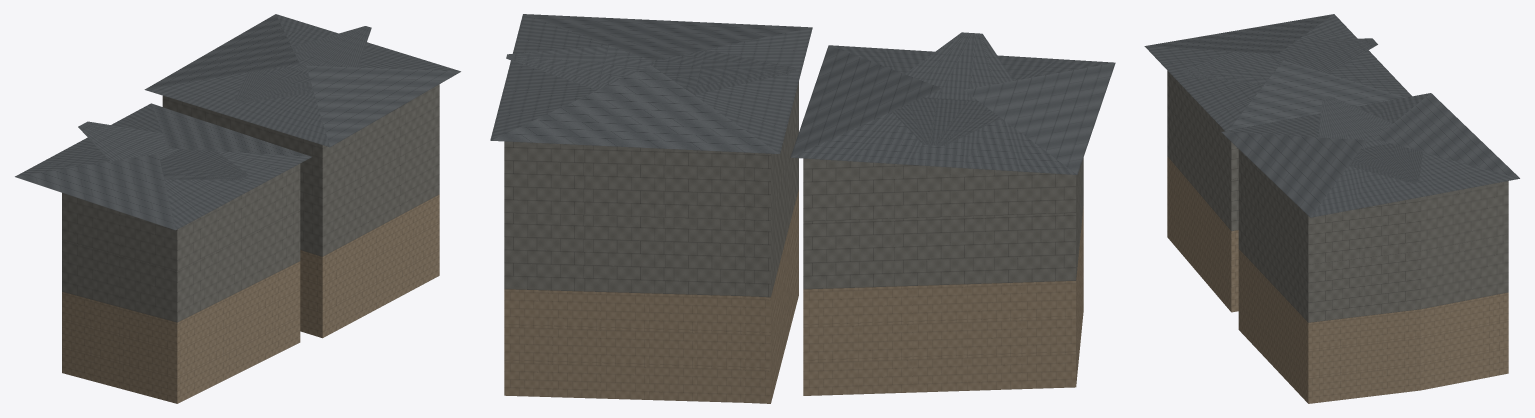
The model's file is bld_c41_-9_503.gltf.
3 views of the same model, side by side, from view 1: azimuth 30°, elevation 25°; view 2: azimuth 150°, elevation 25°; view 3: azimuth 270°, elevation 25° (orthographic). The views are drawn at different scales.
Visible parts, largest first — view 1: bld_c41_-9_503; view 2: bld_c41_-9_503; view 3: bld_c41_-9_503.
Part boxes in pixels (x1=…): bld_c41_-9_503: x1=15, y1=14, x2=460, y2=403; bld_c41_-9_503: x1=490, y1=14, x2=1115, y2=403; bld_c41_-9_503: x1=1144, y1=14, x2=1519, y2=403.
Size of the model in its own units: 28.55 by 13.4 by 21.43.
Materials: 3 (3 with a texture image).
